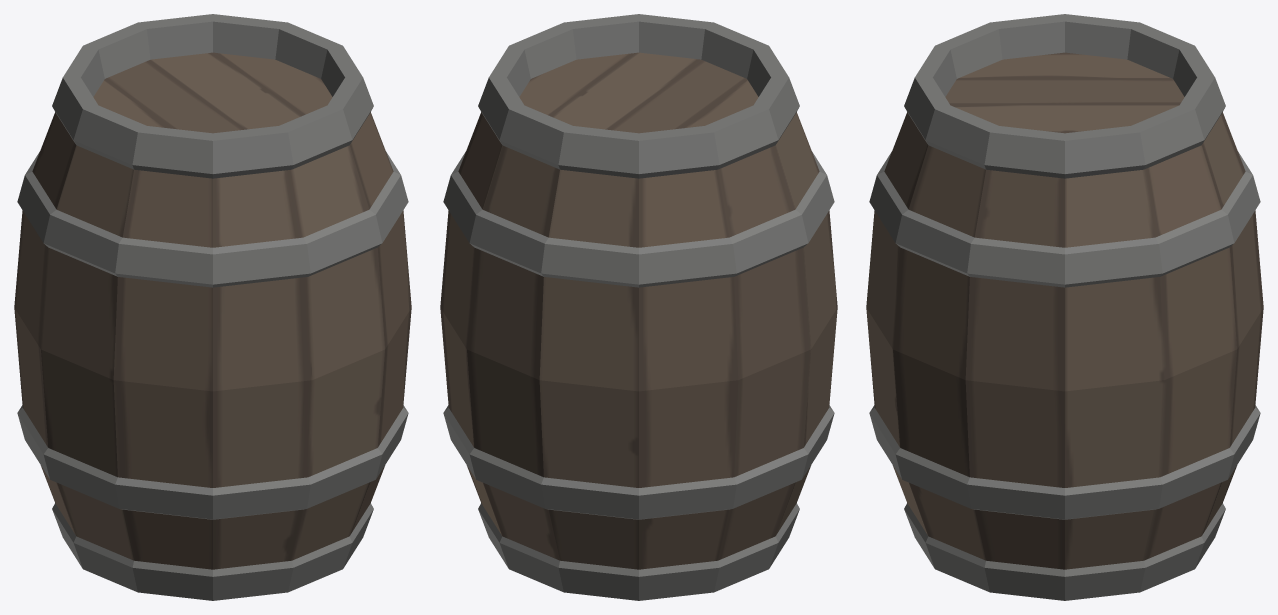
Rendered from SM_Prop_Barrel_01.glb.
3 views of the same model, side by side, from view 1: azimuth 30°, elevation 25°; view 2: azimuth 150°, elevation 25°; view 3: azimuth 270°, elevation 25° (orthographic).
Parts seen in each view (by area): view 1: SM_Prop_Barrel_01; view 2: SM_Prop_Barrel_01; view 3: SM_Prop_Barrel_01.
Part boxes in pixels (x1,y1,x2,y2): SM_Prop_Barrel_01: [14, 14, 411, 600]; SM_Prop_Barrel_01: [440, 14, 837, 600]; SM_Prop_Barrel_01: [866, 14, 1263, 600].
Bounding box in the file's own units: 0.9079 × 1.16 × 0.9079.
Materials: 1 (1 with a texture image).
